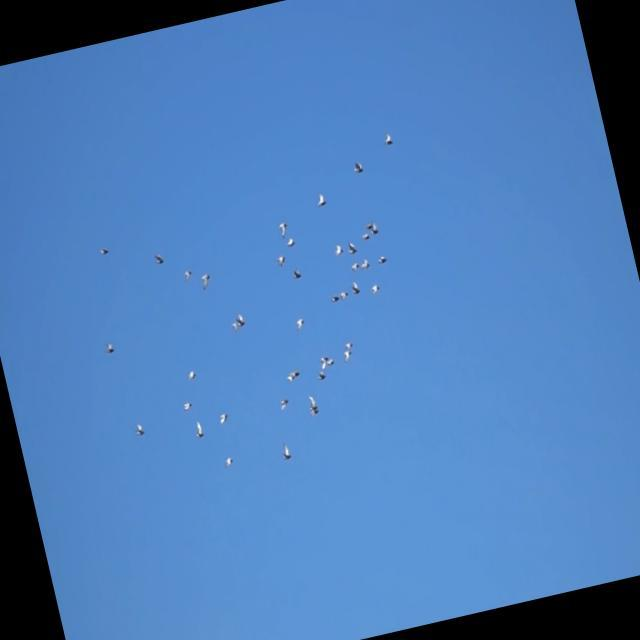bird: (304, 394, 321, 419), (198, 269, 215, 291), (279, 439, 293, 464), (363, 217, 380, 237), (283, 366, 302, 383), (192, 418, 206, 441), (317, 353, 337, 369), (276, 220, 290, 241), (289, 264, 304, 283), (380, 128, 394, 148), (348, 278, 362, 298), (367, 280, 383, 297), (314, 366, 329, 384), (132, 421, 147, 439), (314, 190, 327, 210), (293, 313, 306, 332), (352, 160, 367, 176), (346, 259, 361, 275), (152, 250, 166, 267), (274, 250, 287, 268), (361, 255, 374, 273), (234, 311, 247, 329), (332, 242, 346, 258), (376, 251, 390, 267), (340, 349, 354, 365), (277, 395, 291, 411), (345, 239, 359, 254), (102, 340, 116, 354), (337, 289, 351, 303), (181, 265, 193, 281), (358, 229, 372, 242), (181, 398, 194, 412), (218, 410, 230, 425), (229, 317, 240, 333), (98, 243, 109, 258), (185, 368, 197, 381), (223, 455, 235, 468), (329, 293, 341, 305), (343, 340, 355, 352), (285, 235, 296, 247)
